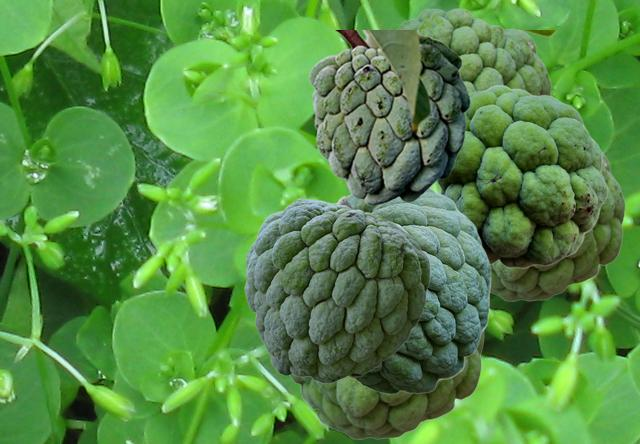atis: (308, 30, 555, 205), (244, 198, 429, 382), (336, 187, 490, 393), (437, 84, 607, 268), (288, 332, 483, 438), (491, 149, 624, 300), (394, 8, 550, 94)
